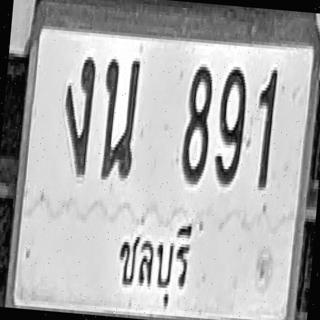A07: (48, 31, 104, 198)
A25: (90, 42, 144, 187)
N01: (242, 55, 285, 208)
N08: (172, 46, 219, 212)
N09: (206, 55, 256, 209)
P13: (90, 196, 196, 320)
